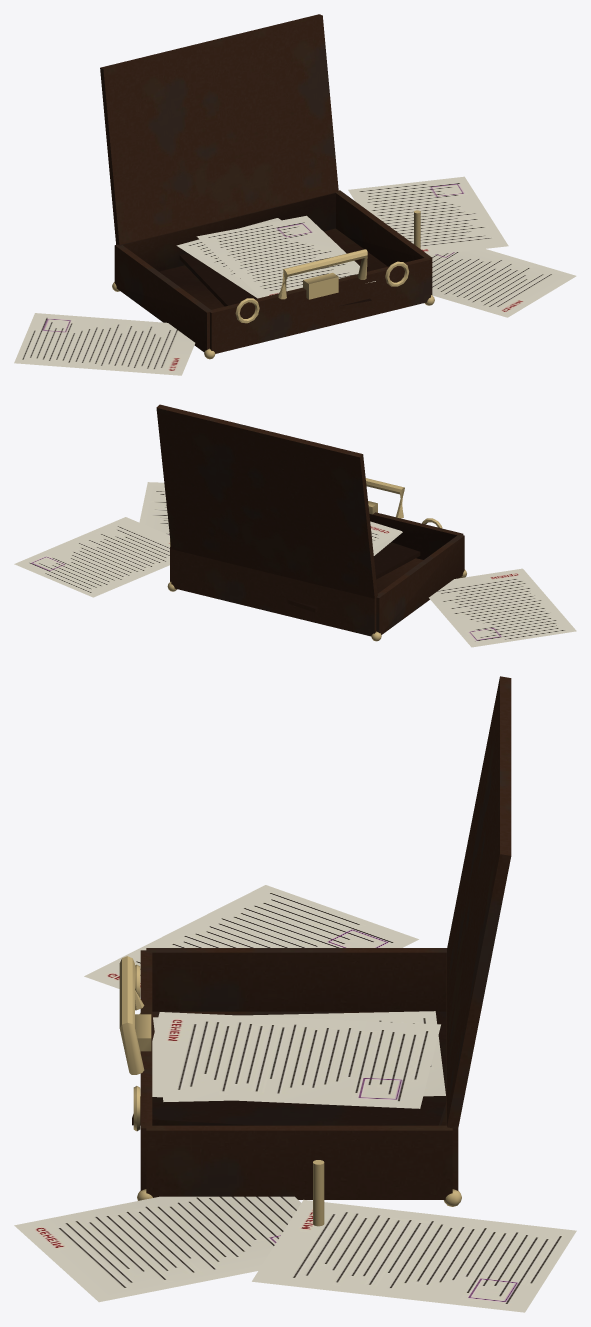
File: documents.glb
The picture shows the model from 3 angles, top to bottom: view 1: azimuth 30°, elevation 25°; view 2: azimuth 150°, elevation 25°; view 3: azimuth 270°, elevation 25°; orthographic projection. The views are drawn at different scales.
Parts seen in each view (by area): view 1: Documents_Briefcase; view 2: Documents_Briefcase; view 3: Documents_Briefcase.
Part boxes in pixels (<box>): Documents_Briefcase: <box>14,14,576,375</box>; Documents_Briefcase: <box>14,404,576,647</box>; Documents_Briefcase: <box>14,676,576,1312</box>.
Size of the model in its own units: 1.06 by 0.4582 by 0.5886.
3 materials, 2 textured.
